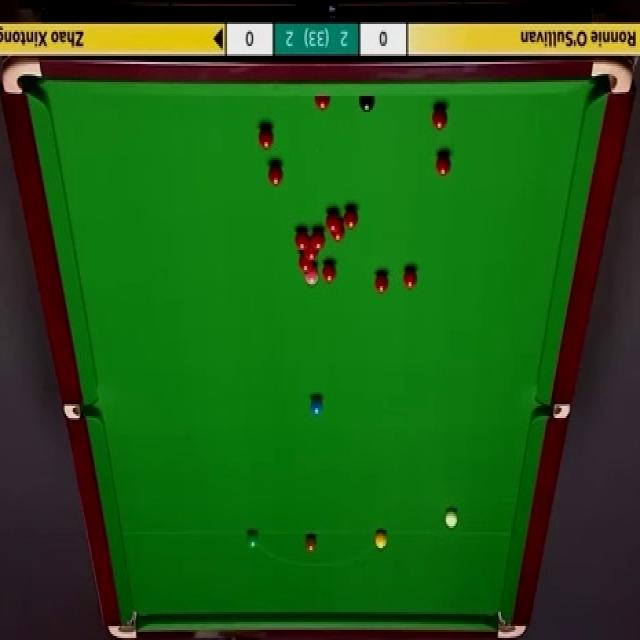black-ball: (358, 96, 374, 112)
blue-ball: (310, 398, 324, 415)
brown-ball: (305, 534, 316, 552)
green-ball: (245, 530, 260, 552)
pink-ball: (304, 266, 319, 286)
red-ball: (267, 163, 284, 188), (298, 250, 315, 274), (431, 106, 448, 129), (434, 156, 452, 177), (258, 126, 273, 150), (321, 262, 339, 282), (344, 207, 359, 231), (374, 274, 389, 297), (402, 268, 418, 288), (294, 232, 309, 252), (331, 222, 344, 242), (326, 212, 339, 232), (313, 97, 331, 111), (312, 232, 324, 250)
white-ball: (445, 506, 458, 530)
yellow-ball: (375, 530, 387, 550)
